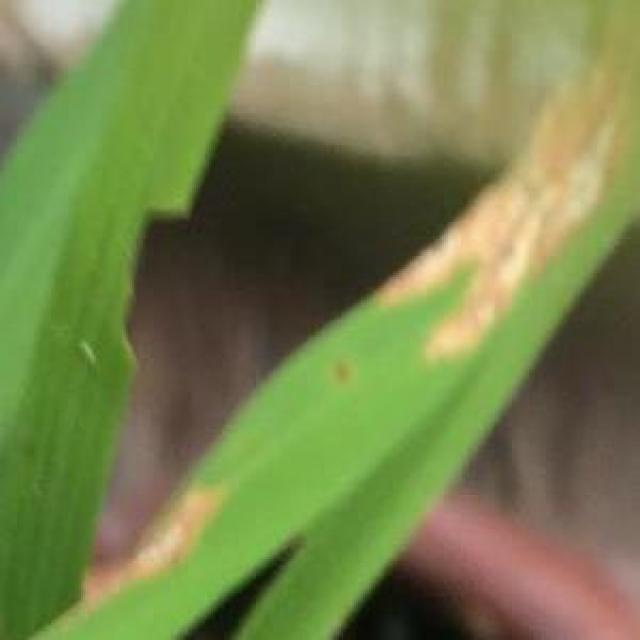Blast: (495, 198, 542, 288), (438, 286, 488, 358), (560, 136, 598, 228), (497, 149, 557, 194), (390, 245, 448, 290), (132, 520, 182, 570), (450, 211, 493, 256), (188, 482, 205, 527)
